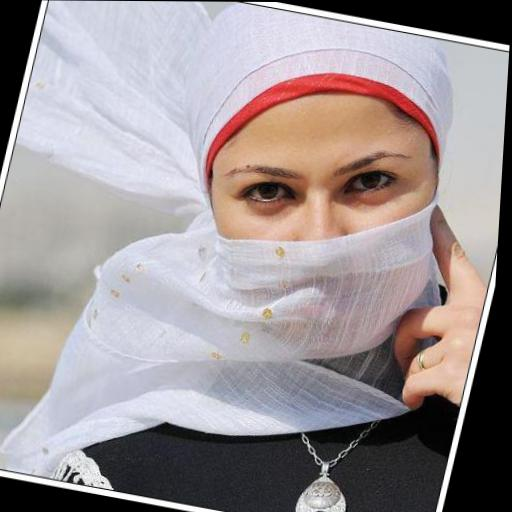WRONG: (190, 103, 450, 373)
